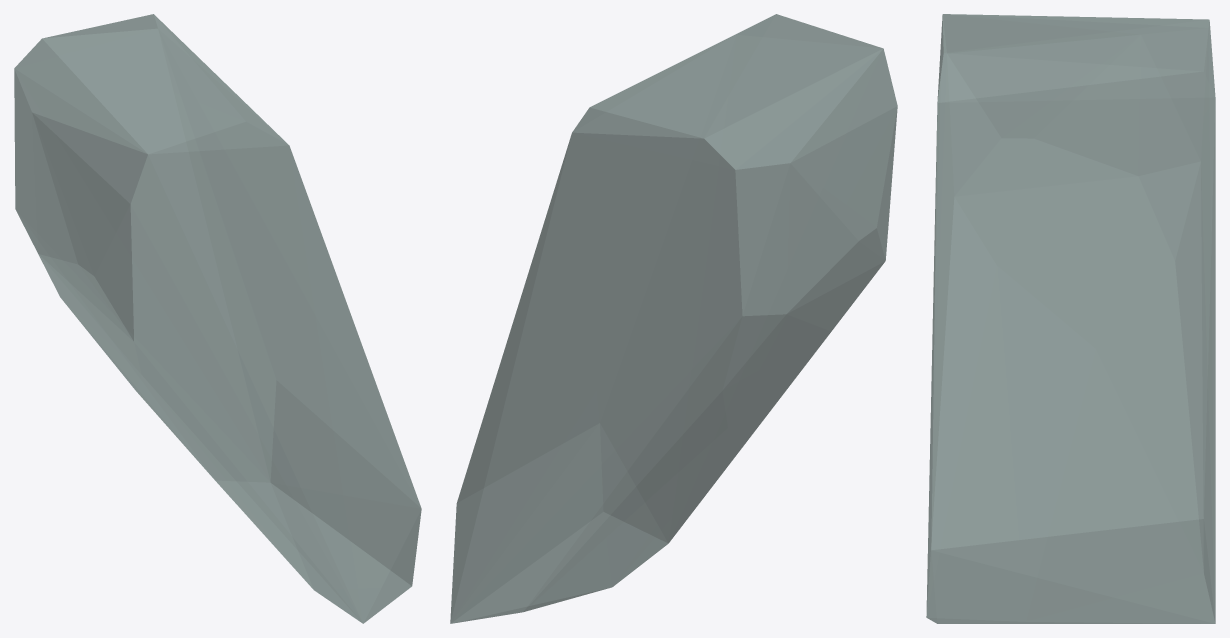
3 renders of one model, left to right at view 1: azimuth 30°, elevation 25°; view 2: azimuth 150°, elevation 25°; view 3: azimuth 270°, elevation 25°, orthographic. The views are drawn at different scales.
Visible parts, largest first — view 1: Shape_IndexedFaceSet.010_Shape_IndexedFaceSet.20387; view 2: Shape_IndexedFaceSet.010_Shape_IndexedFaceSet.20387; view 3: Shape_IndexedFaceSet.010_Shape_IndexedFaceSet.20387.
Part boxes in pixels (x1=…): Shape_IndexedFaceSet.010_Shape_IndexedFaceSet.20387: x1=14, y1=14, x2=421, y2=623; Shape_IndexedFaceSet.010_Shape_IndexedFaceSet.20387: x1=450, y1=14, x2=897, y2=623; Shape_IndexedFaceSet.010_Shape_IndexedFaceSet.20387: x1=926, y1=14, x2=1215, y2=623.
Size of the model in its own units: 0.2181 by 0.3764 by 0.1907.
